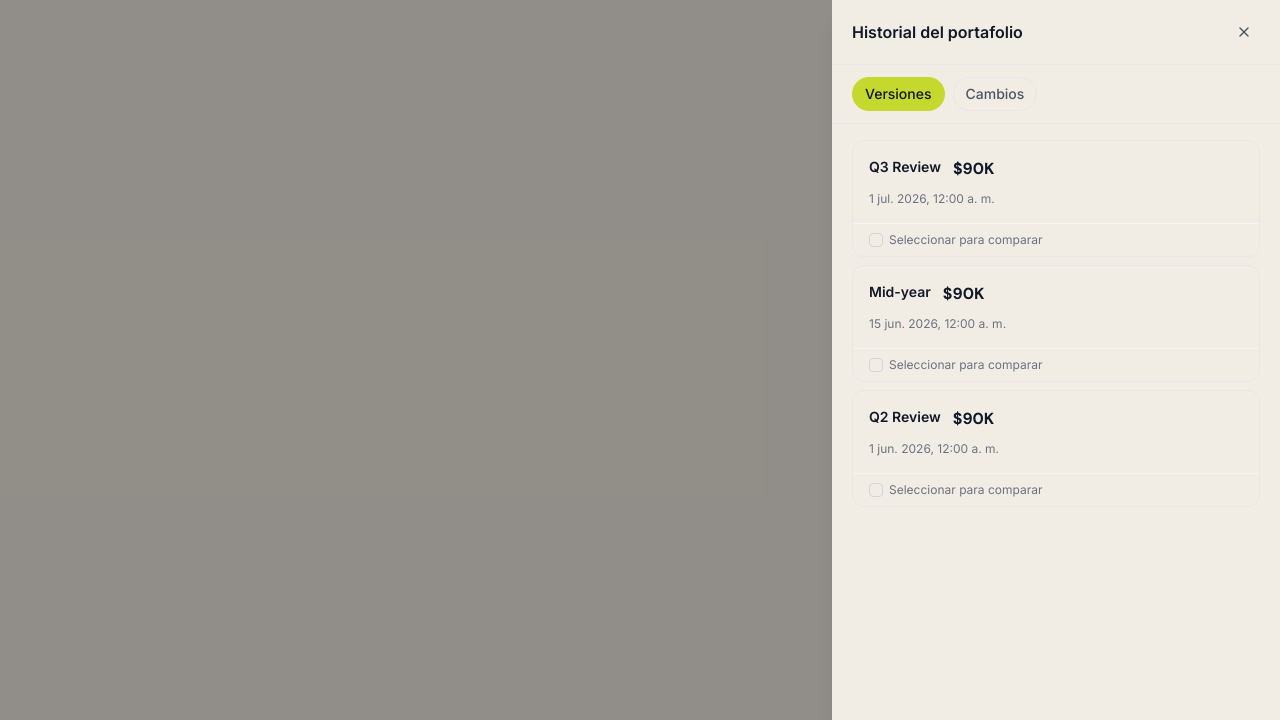
Test: VersioningDrawer — snapshot timeline (SNAP-008) › a failed detail fetch surfaces a visible error, not a blank panel
Click the text "Q3 Review": (905, 167) 869,157 -> 941,177
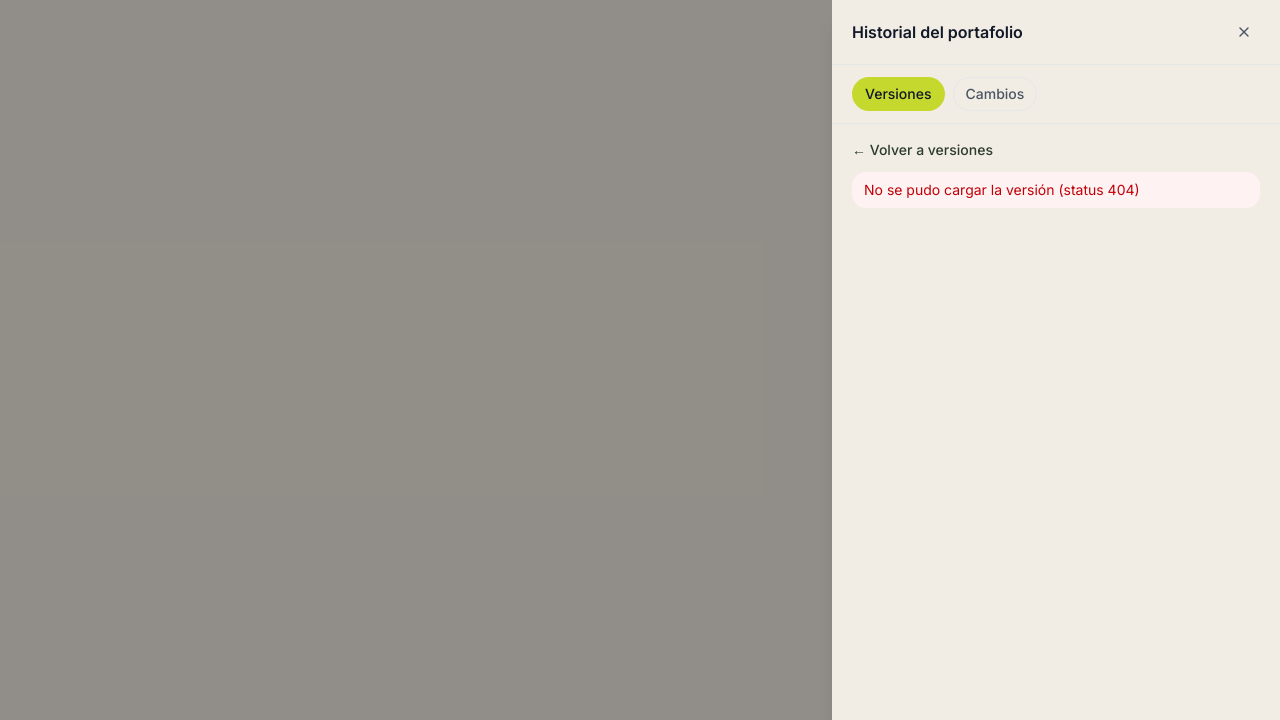
Expected: the message reads "No se pudo cargar la versión (status 404)", 864,181 -> 1140,198
